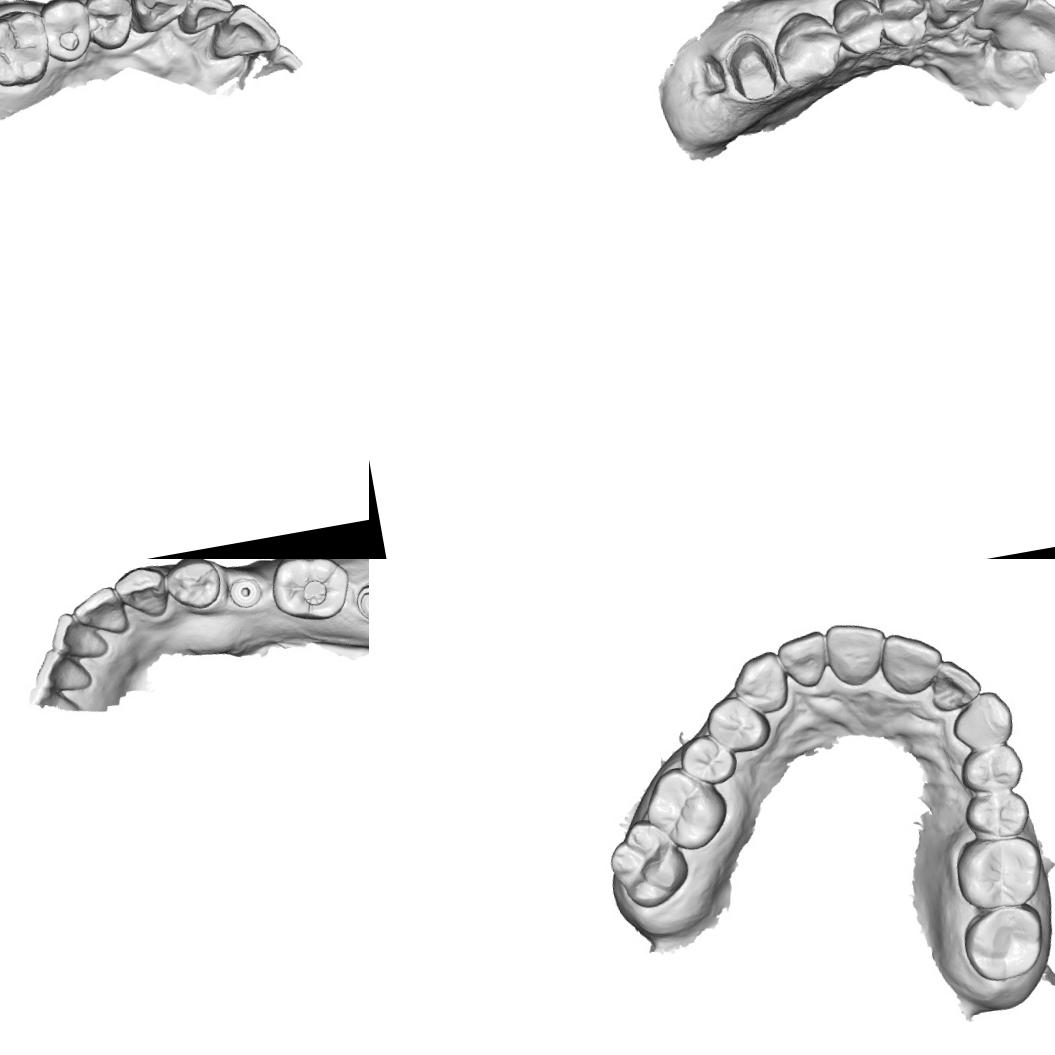canine: (945, 686, 1019, 754), (728, 644, 792, 718), (109, 561, 175, 628), (121, 0, 195, 36), (920, 0, 987, 32)
crown: (720, 29, 781, 106)
implant: (225, 568, 268, 612)
implant_minus: (352, 575, 369, 625)
incisor: (873, 624, 947, 701), (820, 616, 894, 691), (198, 0, 281, 63), (44, 605, 110, 666), (773, 628, 832, 695), (922, 653, 984, 714), (68, 582, 131, 642), (29, 643, 94, 698), (171, 0, 237, 37), (966, 0, 1031, 32), (1014, 0, 1055, 48)
molar: (635, 757, 734, 858), (600, 812, 694, 915), (946, 827, 1051, 917), (956, 900, 1050, 988), (766, 5, 846, 91), (264, 559, 357, 628), (0, 4, 55, 91)
premolar: (702, 690, 774, 760), (959, 785, 1033, 844), (674, 728, 740, 791), (955, 740, 1026, 796), (35, 0, 95, 66), (160, 559, 228, 615), (828, 0, 887, 58), (80, 0, 139, 54), (874, 0, 932, 51)
